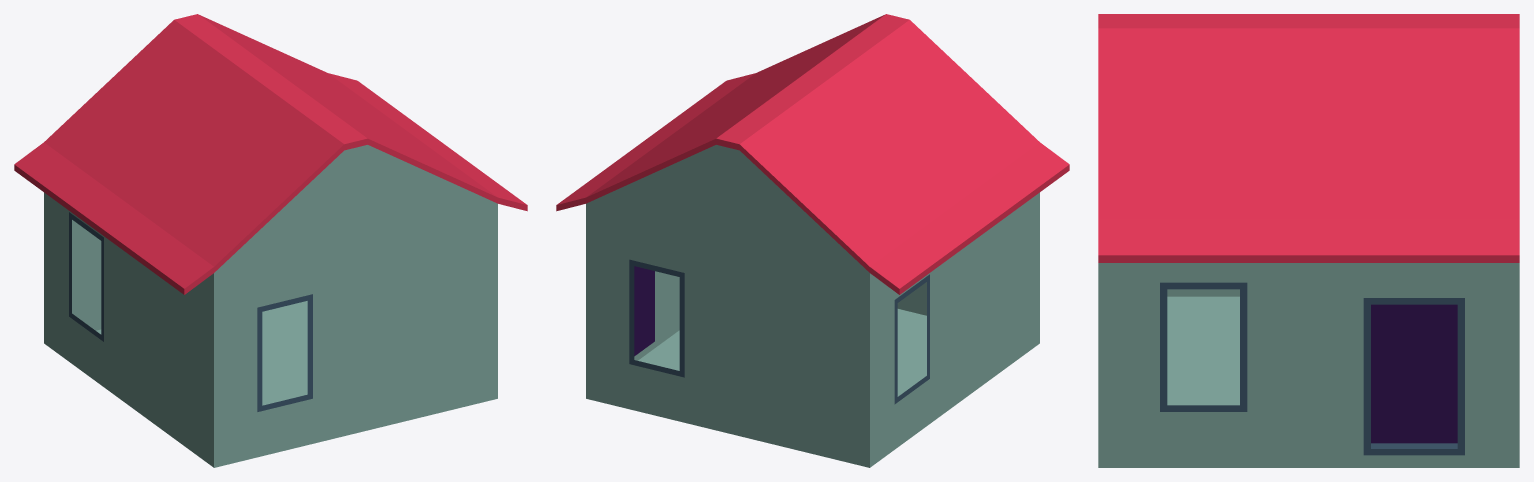
File: building_2.glb
The picture shows the model from 3 angles, left to right: view 1: azimuth 30°, elevation 25°; view 2: azimuth 150°, elevation 25°; view 3: azimuth 270°, elevation 25°; orthographic projection. The views are drawn at different scales.
Visible parts, largest first — view 1: building_2; view 2: building_2; view 3: building_2.
Boxes of the visible parts, <box> form: building_2: <box>14,14,527,467</box>; building_2: <box>556,14,1069,467</box>; building_2: <box>1098,14,1519,467</box>.
Size of the model in its own units: 3.68 by 2.99 by 3.16.
Materials: 1 (1 with a texture image).
